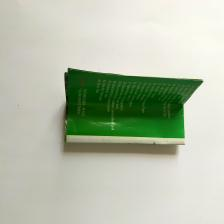Paper: (54, 68, 206, 159)
